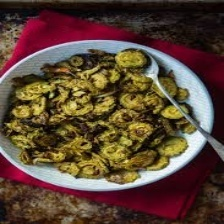sabzi: (1, 46, 201, 184)
